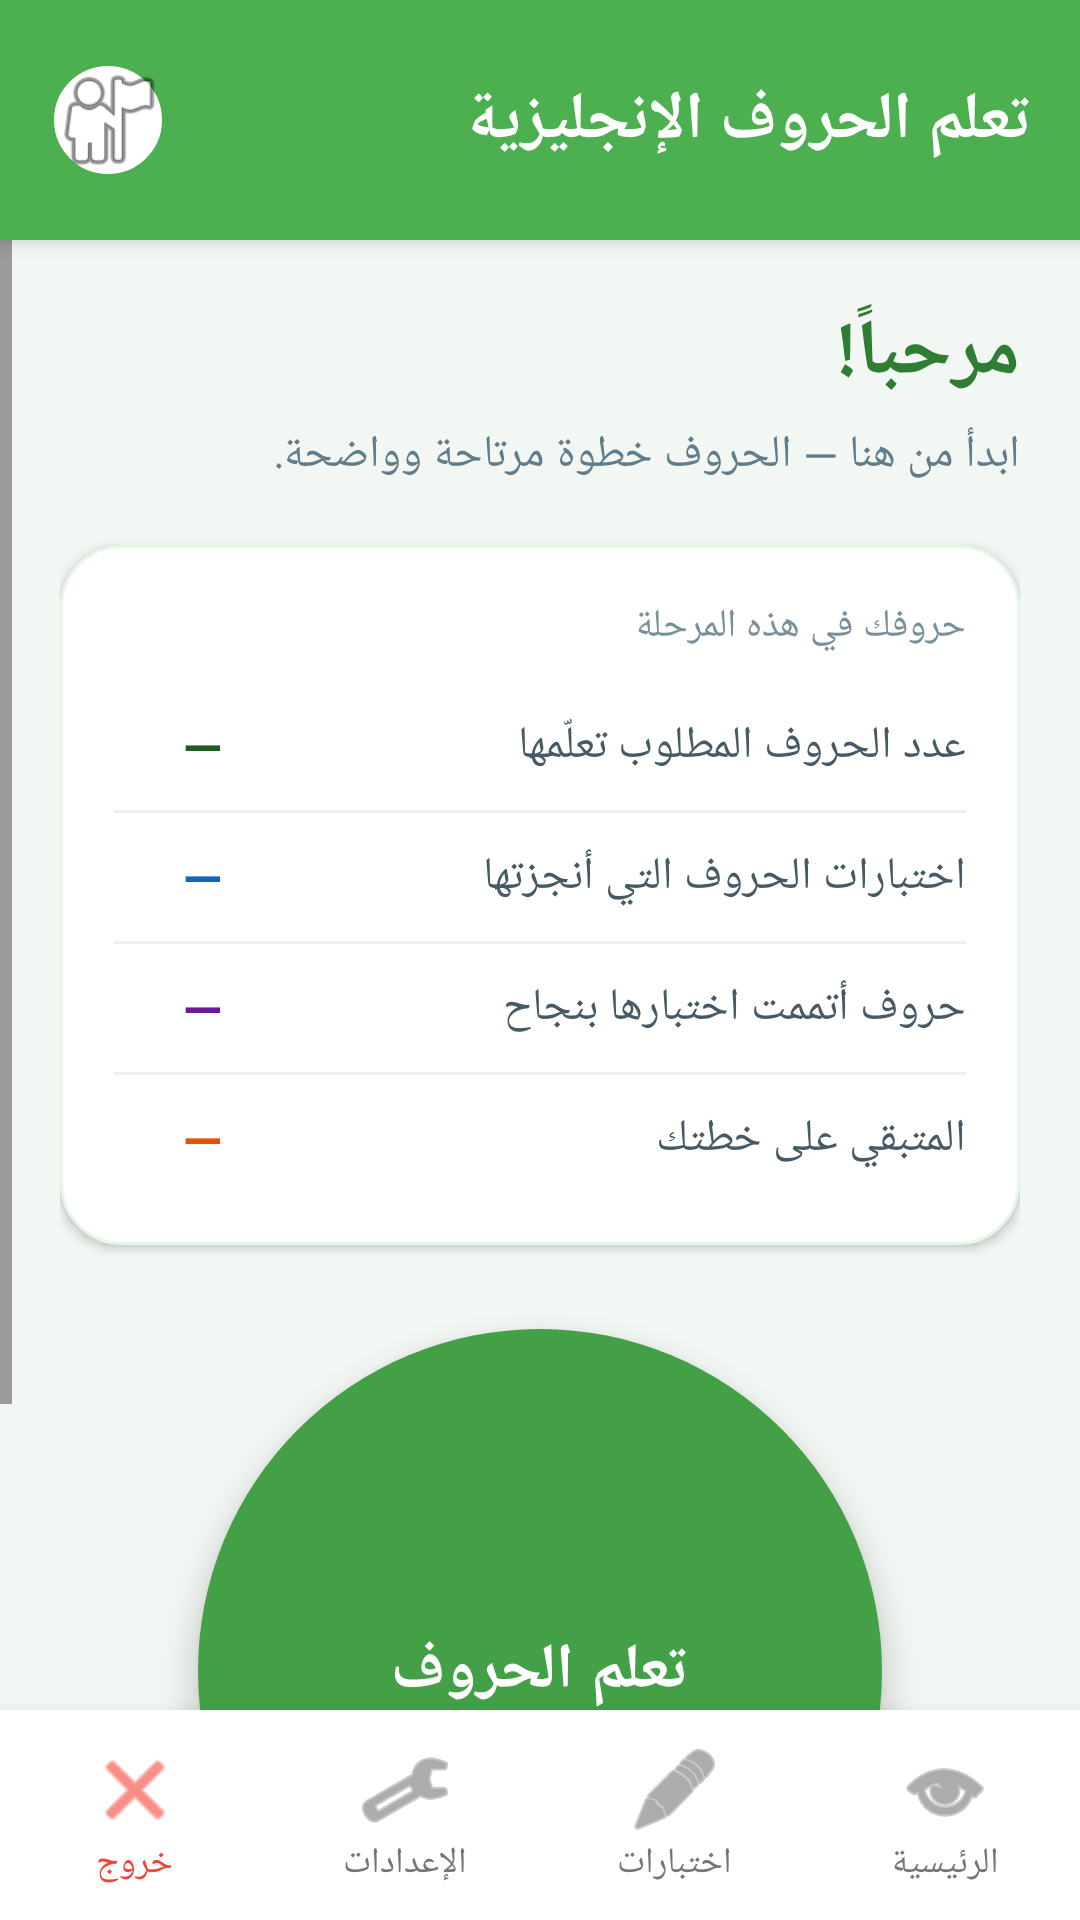

Icon click points for this 1080px x 1920px phone screenshot, format (x=x, y=y):
edit: (x=674, y=1789)
view: (x=945, y=1792)
